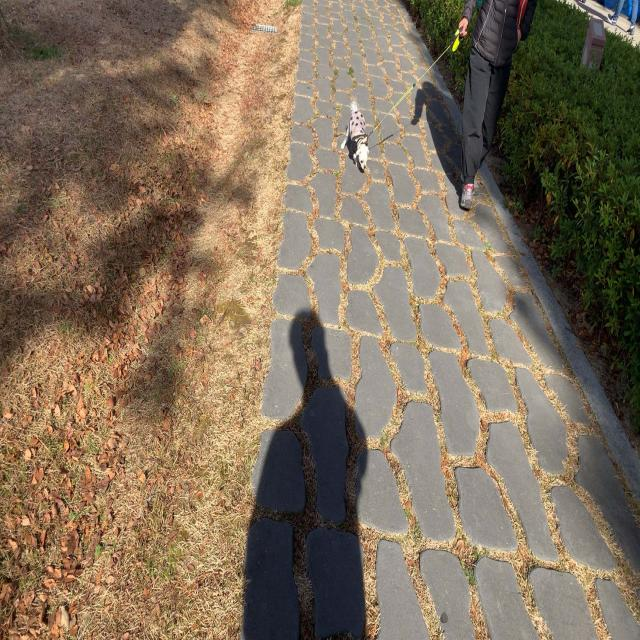Leashed_Dog: (340, 18, 484, 172)
